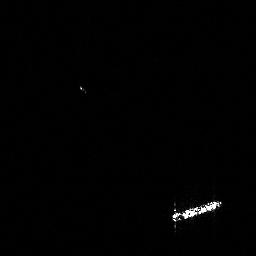ship: (173, 200, 219, 222)
